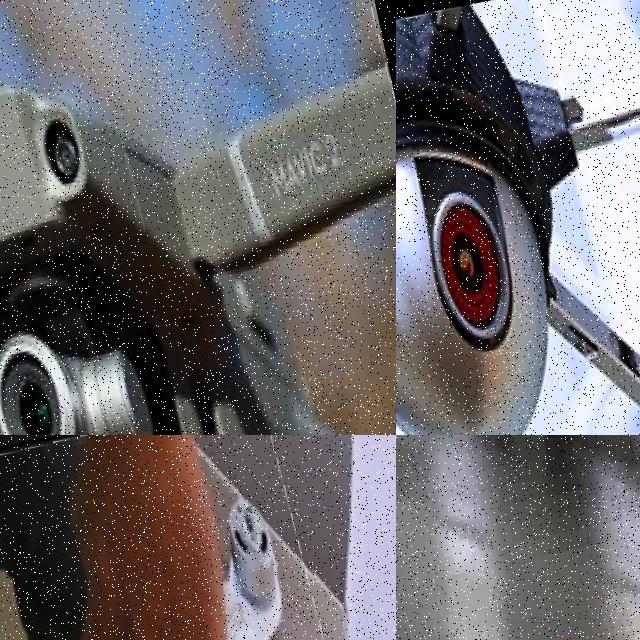drone: (0, 0, 396, 435), (396, 0, 640, 435), (0, 435, 394, 640)
